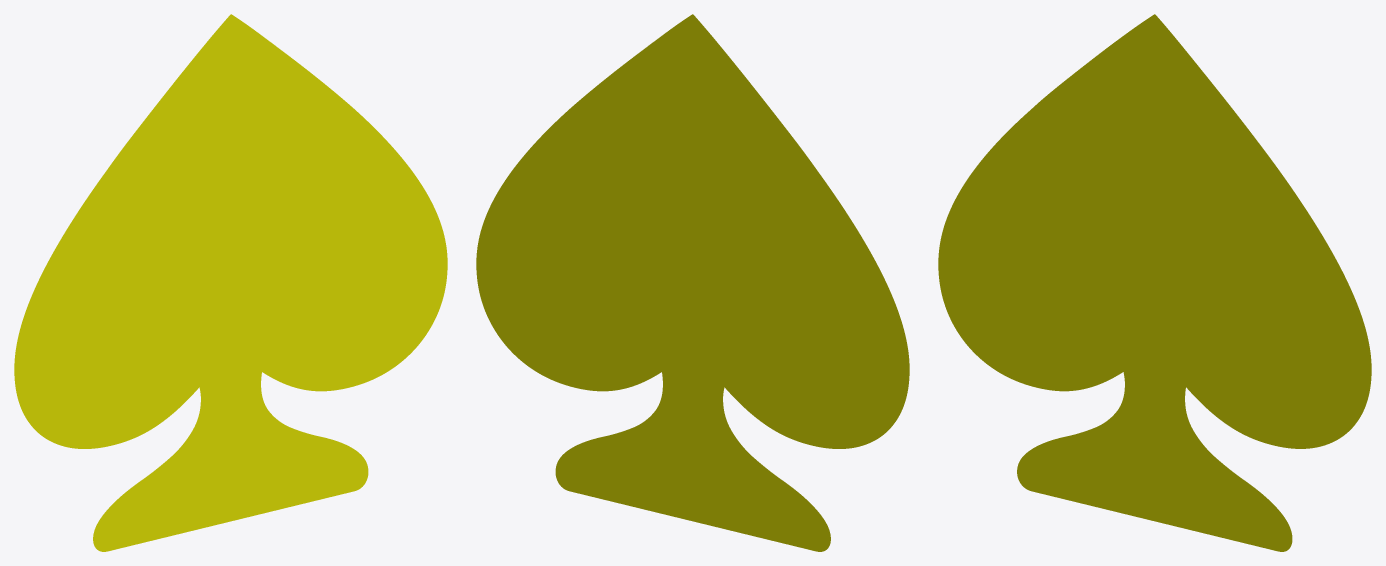
The picture shows the model from 3 angles, left to right: view 1: azimuth 30°, elevation 25°; view 2: azimuth 150°, elevation 25°; view 3: azimuth 330°, elevation 25°; orthographic projection.
Parts seen in each view (by area): view 1: Text.626_626; view 2: Text.626_626; view 3: Text.626_626.
Part boxes in pixels (x1=…): Text.626_626: x1=14, y1=14, x2=447, y2=551; Text.626_626: x1=476, y1=14, x2=909, y2=551; Text.626_626: x1=938, y1=14, x2=1371, y2=551.
Size of the model in its own units: 0.908 by 1.02 by 3.6e-06.
